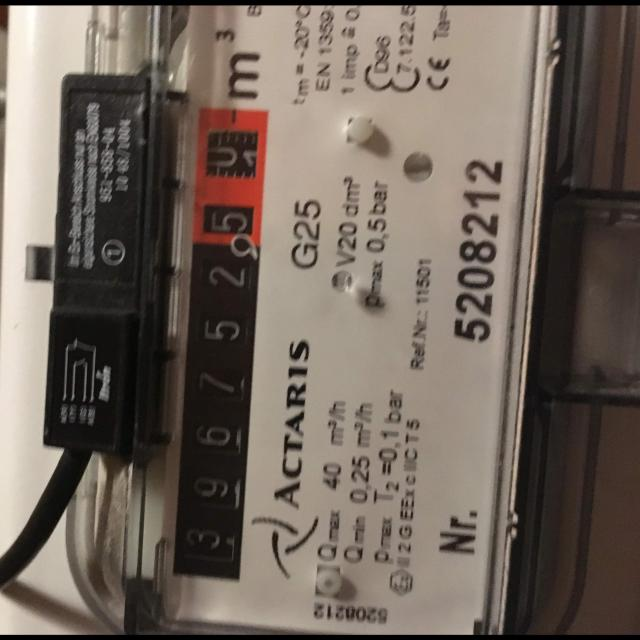gaz_meter: (9, 6, 510, 640)
indication: (171, 106, 267, 584)
